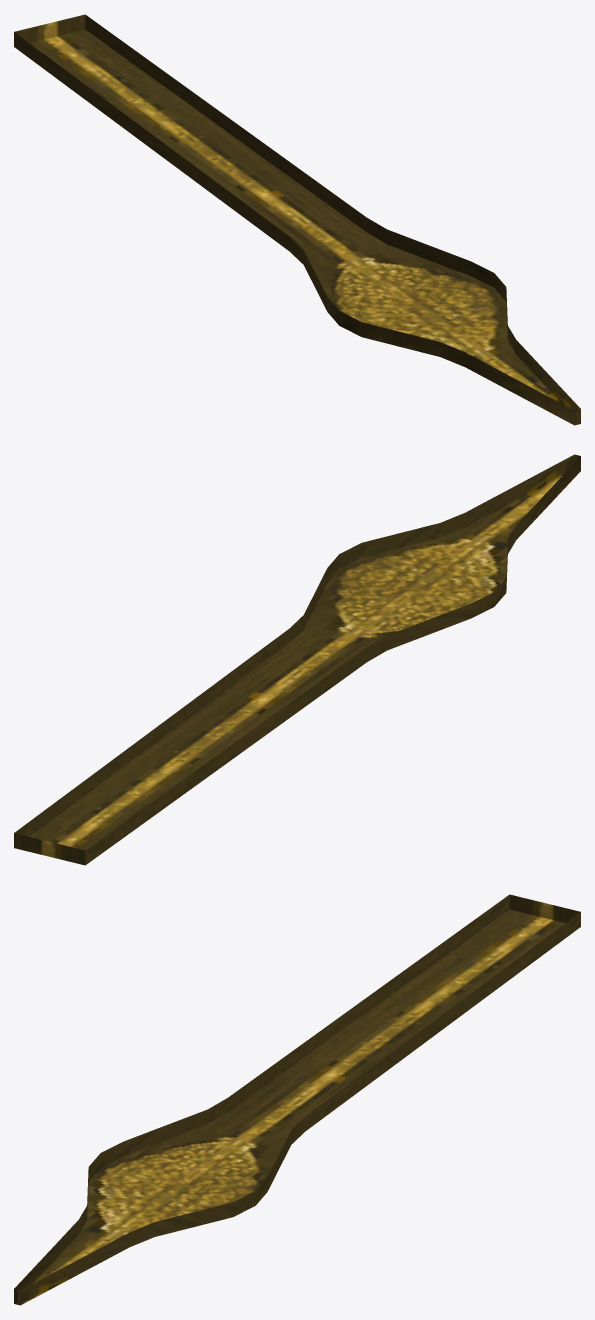
The model's file is nt_2020_wall_clock_01_minutes_LOD0.obj.
3 renders of one model, top to bottom at view 1: azimuth 30°, elevation 25°; view 2: azimuth 150°, elevation 25°; view 3: azimuth 330°, elevation 25°, orthographic.
Visible parts, largest first — view 1: mtl_nt_2020_wall_clock_01; view 2: mtl_nt_2020_wall_clock_01; view 3: mtl_nt_2020_wall_clock_01.
Part boxes in pixels (left/top/right/bottom): mtl_nt_2020_wall_clock_01: left=14, top=14, right=580, bottom=425; mtl_nt_2020_wall_clock_01: left=14, top=454, right=580, bottom=865; mtl_nt_2020_wall_clock_01: left=14, top=894, right=580, bottom=1305.
Size of the model in its own units: 2.46 by 0.2279 by 14.53.
